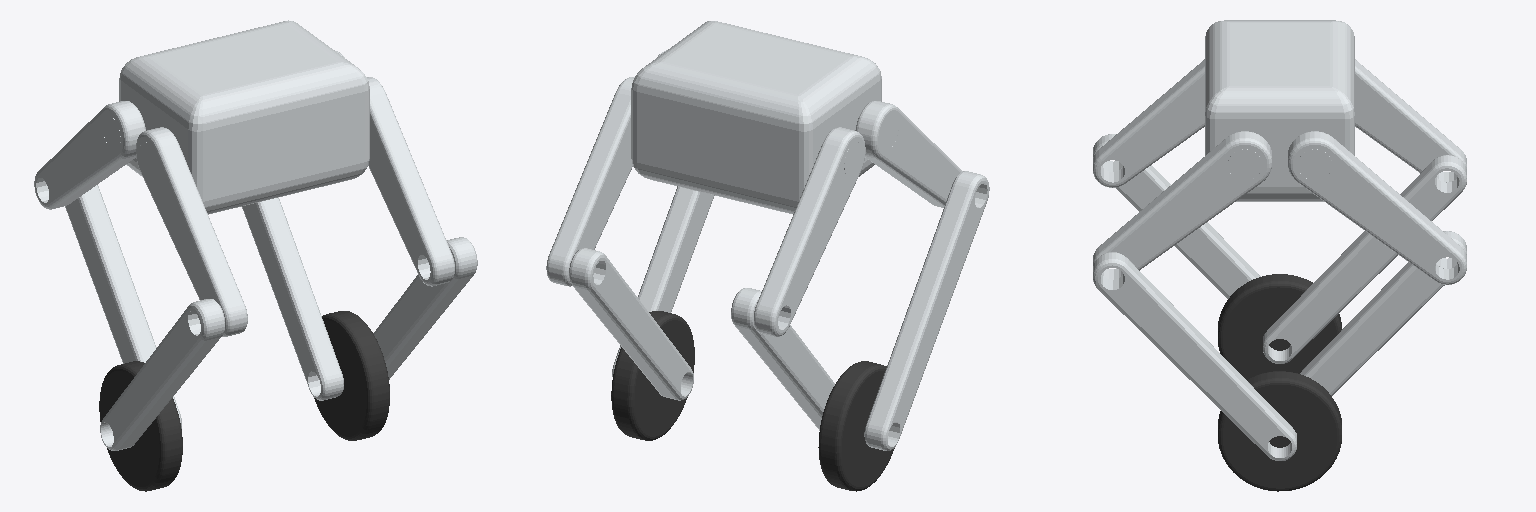
URDF robot description (WBR_prototype):
<?xml version="1.0" encoding="utf-8"?>
<!-- This URDF was automatically created by SolidWorks to URDF Exporter! Originally created by [author] ([email redacted]) 
     Commit Version: 1.6.0-4-g7f85cfe  Build Version: 1.6.7995.38578
     For more information, please see http://wiki.ros.org/sw_urdf_exporter -->
<robot
  name="WBR_prototype">
  <link
    name="base_link">
    <inertial>
      <origin
        xyz="-3.35742547264237E-17 -9.11466021782636E-18 1.577370176157E-17"
        rpy="0 0 0" />
      <mass
        value="79.435415621746" />
      <inertia
        ixx="0.936396686083776"
        ixy="2.52034653455517E-17"
        ixz="2.57762713761324E-17"
        iyy="1.67256373747467"
        iyz="6.38678724097504E-17"
        izz="1.48256968665553" />
    </inertial>
    <visual>
      <origin
        xyz="0 0 0"
        rpy="0 0 0" />
      <geometry>
        <mesh
          filename="package://WBR_prototype/meshes/base_link.STL" />
      </geometry>
      <material
        name="">
        <color
          rgba="0.898039215686275 0.917647058823529 0.929411764705882 1" />
      </material>
    </visual>
    <collision>
      <origin
        xyz="0 0 0"
        rpy="0 0 0" />
      <geometry>
        <mesh
          filename="package://WBR_prototype/meshes/base_link.STL" />
      </geometry>
    </collision>
  </link>
  <link
    name="A1_Link">
    <inertial>
      <origin
        xyz="0.0123937238930464 0.0249999999999999 -1.38777878078145E-17"
        rpy="0 0 0" />
      <mass
        value="4.58334450236852" />
      <inertia
        ixx="0.00461060976863761"
        ixy="-8.53506861085946E-18"
        ixz="5.52943107967607E-17"
        iyy="0.0604011849476407"
        iyz="2.35123470896141E-19"
        izz="0.0576287318981151" />
    </inertial>
    <visual>
      <origin
        xyz="0 0 0"
        rpy="0 0 0" />
      <geometry>
        <mesh
          filename="package://WBR_prototype/meshes/A1_Link.STL" />
      </geometry>
      <material
        name="">
        <color
          rgba="0.898039215686275 0.917647058823529 0.929411764705882 1" />
      </material>
    </visual>
    <collision>
      <origin
        xyz="0 0 0"
        rpy="0 0 0" />
      <geometry>
        <mesh
          filename="package://WBR_prototype/meshes/A1_Link.STL" />
      </geometry>
    </collision>
  </link>
  <joint
    name="A1"
    type="fixed">
    <origin
      xyz="0.255 0.18353 -0.098031"
      rpy="0 0.71225 1.5708" />
    <parent
      link="base_link" />
    <child
      link="A1_Link" />
    <axis
      xyz="0 0 0" />
  </joint>
  <link
    name="A15_Link">
    <inertial>
      <origin
        xyz="0.109893824662281 0.025 -1.11022302462516E-16"
        rpy="0 0 0" />
      <mass
        value="4.99934360485206" />
      <inertia
        ixx="0.00335674361919314"
        ixy="-1.8864423194188E-17"
        ixz="1.03324467037869E-16"
        iyy="0.112471776561935"
        iyz="-1.16854134262832E-18"
        izz="0.111109301926735" />
    </inertial>
    <visual>
      <origin
        xyz="0 0 0"
        rpy="0 0 0" />
      <geometry>
        <mesh
          filename="package://WBR_prototype/meshes/A15_Link.STL" />
      </geometry>
      <material
        name="">
        <color
          rgba="0.898039215686275 0.917647058823529 0.929411764705882 1" />
      </material>
    </visual>
    <collision>
      <origin
        xyz="0 0 0"
        rpy="0 0 0" />
      <geometry>
        <mesh
          filename="package://WBR_prototype/meshes/A15_Link.STL" />
      </geometry>
    </collision>
  </link>
  <joint
    name="A15"
    type="fixed">
    <origin
      xyz="0.1924 0.1 -0.34992"
      rpy="3.1416 -1.5491 0" />
    <parent
      link="A1_Link" />
    <child
      link="A15_Link" />
    <axis
      xyz="0 0 0" />
  </joint>
  <link
    name="WR_Link">
    <inertial>
      <origin
        xyz="0 -0.025 5.55111512312578E-17"
        rpy="0 0 0" />
      <mass
        value="3.01810315038832" />
      <inertia
        ixx="0.0122553300870839"
        ixy="1.68518870133883E-34"
        ixz="8.67361737988404E-19"
        iyy="0.0232789295920736"
        iyz="7.37180746360739E-20"
        izz="0.0122553300870839" />
    </inertial>
    <visual>
      <origin
        xyz="0 0 0"
        rpy="0 0 0" />
      <geometry>
        <mesh
          filename="package://WBR_prototype/meshes/WR_Link.STL" />
      </geometry>
      <material
        name="">
        <color
          rgba="0.298039215686275 0.298039215686275 0.298039215686275 1" />
      </material>
    </visual>
    <collision>
      <origin
        xyz="0 0 0"
        rpy="0 0 0" />
      <geometry>
        <mesh
          filename="package://WBR_prototype/meshes/WR_Link.STL" />
      </geometry>
    </collision>
  </link>
  <joint
    name="WR"
    type="continuous">
    <origin
      xyz="-0.15 0.05 0"
      rpy="3.1416 1.218 0" />
    <parent
      link="A15_Link" />
    <child
      link="WR_Link" />
    <axis
      xyz="0 1 0" />
  </joint>
  <link
    name="A2_Link">
    <inertial>
      <origin
        xyz="0.0123937238930463 0.025 4.16333634234434E-17"
        rpy="0 0 0" />
      <mass
        value="4.58334450236852" />
      <inertia
        ixx="0.00461060976863762"
        ixy="3.30199279258287E-18"
        ixz="-4.46691295064028E-17"
        iyy="0.0604011849476407"
        iyz="-6.0525621139655E-19"
        izz="0.0576287318981151" />
    </inertial>
    <visual>
      <origin
        xyz="0 0 0"
        rpy="0 0 0" />
      <geometry>
        <mesh
          filename="package://WBR_prototype/meshes/A2_Link.STL" />
      </geometry>
      <material
        name="">
        <color
          rgba="0.898039215686275 0.917647058823529 0.929411764705882 1" />
      </material>
    </visual>
    <collision>
      <origin
        xyz="0 0 0"
        rpy="0 0 0" />
      <geometry>
        <mesh
          filename="package://WBR_prototype/meshes/A2_Link.STL" />
      </geometry>
    </collision>
  </link>
  <joint
    name="A2"
    type="fixed">
    <origin
      xyz="0.255 -0.18353 -0.098031"
      rpy="3.1416 0.71225 -1.5708" />
    <parent
      link="base_link" />
    <child
      link="A2_Link" />
    <axis
      xyz="0 0 0" />
  </joint>
  <link
    name="A26_Link">
    <inertial>
      <origin
        xyz="0.109893824662281 0.025 -5.55111512312578E-17"
        rpy="0 0 0" />
      <mass
        value="4.99934360485206" />
      <inertia
        ixx="0.00335674361919313"
        ixy="1.04314921672282E-18"
        ixz="-5.68121938382404E-17"
        iyy="0.112471776561935"
        iyz="-2.89320633353585E-19"
        izz="0.111109301926735" />
    </inertial>
    <visual>
      <origin
        xyz="0 0 0"
        rpy="0 0 0" />
      <geometry>
        <mesh
          filename="package://WBR_prototype/meshes/A26_Link.STL" />
      </geometry>
      <material
        name="">
        <color
          rgba="0.898039215686275 0.917647058823529 0.929411764705882 1" />
      </material>
    </visual>
    <collision>
      <origin
        xyz="0 0 0"
        rpy="0 0 0" />
      <geometry>
        <mesh
          filename="package://WBR_prototype/meshes/A26_Link.STL" />
      </geometry>
    </collision>
  </link>
  <joint
    name="A26"
    type="fixed">
    <origin
      xyz="0.1924 0 0.34992"
      rpy="3.1416 1.5491 0" />
    <parent
      link="A2_Link" />
    <child
      link="A26_Link" />
    <axis
      xyz="0 0 0" />
  </joint>
  <link
    name="A3_Link">
    <inertial>
      <origin
        xyz="0.0123937238930464 0.025 0"
        rpy="0 0 0" />
      <mass
        value="4.58334450236852" />
      <inertia
        ixx="0.00461060976863762"
        ixy="-9.72010761066201E-18"
        ixz="6.33174068731535E-17"
        iyy="0.0604011849476408"
        iyz="-5.29351441547726E-19"
        izz="0.0576287318981152" />
    </inertial>
    <visual>
      <origin
        xyz="0 0 0"
        rpy="0 0 0" />
      <geometry>
        <mesh
          filename="package://WBR_prototype/meshes/A3_Link.STL" />
      </geometry>
      <material
        name="">
        <color
          rgba="0.898039215686275 0.917647058823529 0.929411764705882 1" />
      </material>
    </visual>
    <collision>
      <origin
        xyz="0 0 0"
        rpy="0 0 0" />
      <geometry>
        <mesh
          filename="package://WBR_prototype/meshes/A3_Link.STL" />
      </geometry>
    </collision>
  </link>
  <joint
    name="A3"
    type="fixed">
    <origin
      xyz="-0.205 0.183533542805022 -0.0980312942796335"
      rpy="0 0.71225466118791 1.5707963267949" />
    <parent
      link="base_link" />
    <child
      link="A3_Link" />
    <axis
      xyz="0 0 0" />
  </joint>
  <link
    name="A37_Link">
    <inertial>
      <origin
        xyz="0.109893824662281 0.025 -1.11022302462516E-16"
        rpy="0 0 0" />
      <mass
        value="4.99934360485206" />
      <inertia
        ixx="0.00335674361919312"
        ixy="-4.94383568410852E-19"
        ixz="1.2414114874959E-16"
        iyy="0.112471776561935"
        iyz="7.6527546025921E-19"
        izz="0.111109301926735" />
    </inertial>
    <visual>
      <origin
        xyz="0 0 0"
        rpy="0 0 0" />
      <geometry>
        <mesh
          filename="package://WBR_prototype/meshes/A37_Link.STL" />
      </geometry>
      <material
        name="">
        <color
          rgba="0.898039215686275 0.917647058823529 0.929411764705882 1" />
      </material>
    </visual>
    <collision>
      <origin
        xyz="0 0 0"
        rpy="0 0 0" />
      <geometry>
        <mesh
          filename="package://WBR_prototype/meshes/A37_Link.STL" />
      </geometry>
    </collision>
  </link>
  <joint
    name="A37"
    type="fixed">
    <origin
      xyz="0.1924 0 -0.34992"
      rpy="3.1416 -1.5491 0" />
    <parent
      link="A3_Link" />
    <child
      link="A37_Link" />
    <axis
      xyz="0 0 0" />
  </joint>
  <link
    name="WL_Link">
    <inertial>
      <origin
        xyz="7.28583859910259E-17 0.0249999999999999 -1.11022302462516E-16"
        rpy="0 0 0" />
      <mass
        value="3.01810315038832" />
      <inertia
        ixx="0.0122553300870839"
        ixy="-1.89690408902048E-18"
        ixz="-5.42101086242752E-20"
        iyy="0.0232789295920736"
        iyz="-2.80259652532196E-18"
        izz="0.0122553300870839" />
    </inertial>
    <visual>
      <origin
        xyz="0 0 0"
        rpy="0 0 0" />
      <geometry>
        <mesh
          filename="package://WBR_prototype/meshes/WL_Link.STL" />
      </geometry>
      <material
        name="">
        <color
          rgba="0.298039215686275 0.298039215686275 0.298039215686275 1" />
      </material>
    </visual>
    <collision>
      <origin
        xyz="0 0 0"
        rpy="0 0 0" />
      <geometry>
        <mesh
          filename="package://WBR_prototype/meshes/WL_Link.STL" />
      </geometry>
    </collision>
  </link>
  <joint
    name="WL"
    type="continuous">
    <origin
      xyz="-0.15 0 0"
      rpy="3.1416 -0.80139 0" />
    <parent
      link="A37_Link" />
    <child
      link="WL_Link" />
    <axis
      xyz="0 1 0" />
  </joint>
  <link
    name="A4_Link">
    <inertial>
      <origin
        xyz="0.0123937238930464 0.025 1.38777878078145E-17"
        rpy="0 0 0" />
      <mass
        value="4.58334450236852" />
      <inertia
        ixx="0.00461060976863761"
        ixy="1.20288880669621E-17"
        ixz="-6.26668855696622E-17"
        iyy="0.0604011849476408"
        iyz="6.79934269402883E-19"
        izz="0.0576287318981152" />
    </inertial>
    <visual>
      <origin
        xyz="0 0 0"
        rpy="0 0 0" />
      <geometry>
        <mesh
          filename="package://WBR_prototype/meshes/A4_Link.STL" />
      </geometry>
      <material
        name="">
        <color
          rgba="0.898039215686275 0.917647058823529 0.929411764705882 1" />
      </material>
    </visual>
    <collision>
      <origin
        xyz="0 0 0"
        rpy="0 0 0" />
      <geometry>
        <mesh
          filename="package://WBR_prototype/meshes/A4_Link.STL" />
      </geometry>
    </collision>
  </link>
  <joint
    name="A4"
    type="fixed">
    <origin
      xyz="-0.205 -0.18353 -0.098031"
      rpy="3.1416 0.71225 -1.5708" />
    <parent
      link="base_link" />
    <child
      link="A4_Link" />
    <axis
      xyz="0 0 0" />
  </joint>
  <link
    name="A48_Link">
    <inertial>
      <origin
        xyz="0.109893824662281 0.025 0"
        rpy="0 0 0" />
      <mass
        value="4.99934360485206" />
      <inertia
        ixx="0.00335674361919313"
        ixy="2.82486655469367E-17"
        ixz="-6.52689707836274E-17"
        iyy="0.112471776561935"
        iyz="-4.01023479076307E-19"
        izz="0.111109301926735" />
    </inertial>
    <visual>
      <origin
        xyz="0 0 0"
        rpy="0 0 0" />
      <geometry>
        <mesh
          filename="package://WBR_prototype/meshes/A48_Link.STL" />
      </geometry>
      <material
        name="">
        <color
          rgba="0.898039215686275 0.917647058823529 0.929411764705882 1" />
      </material>
    </visual>
    <collision>
      <origin
        xyz="0 0 0"
        rpy="0 0 0" />
      <geometry>
        <mesh
          filename="package://WBR_prototype/meshes/A48_Link.STL" />
      </geometry>
    </collision>
  </link>
  <joint
    name="A48"
    type="fixed">
    <origin
      xyz="0.1924 0.1 0.34992"
      rpy="3.1416 1.5491 0" />
    <parent
      link="A4_Link" />
    <child
      link="A48_Link" />
    <axis
      xyz="0 0 0" />
  </joint>
</robot>

--- Facts derived from the render (not from the file) ---
Views: 3 orthographic renders of the robot side by side, from view 1: azimuth 30°, elevation 25°; view 2: azimuth 150°, elevation 25°; view 3: azimuth 270°, elevation 25°.
Robot: WBR_prototype — 11 links, 10 joints (2 continuous, 8 fixed); root link base_link; default pose: all joints at 0.
Links seen in each view (by area): view 1: base_link, A4_Link, A15_Link, A2_Link, A48_Link, A37_Link, WR_Link, A3_Link, WL_Link, A26_Link; view 2: base_link, A48_Link, A3_Link, A15_Link, A1_Link, WL_Link, A4_Link, WR_Link, A37_Link, A26_Link; view 3: base_link, A26_Link, A1_Link, WR_Link, A2_Link, A37_Link, WL_Link, A15_Link, A4_Link, A3_Link, A48_Link.
Boxes of the visible links, left/top/right/bottom form: base_link: left=103, top=20, right=369, bottom=214; A4_Link: left=136, top=127, right=247, bottom=336; A15_Link: left=242, top=197, right=343, bottom=400; A2_Link: left=367, top=77, right=454, bottom=286; A48_Link: left=100, top=299, right=224, bottom=450; A37_Link: left=65, top=185, right=181, bottom=428; WR_Link: left=314, top=311, right=389, bottom=440; A3_Link: left=34, top=101, right=145, bottom=209; WL_Link: left=99, top=361, right=182, bottom=491; A26_Link: left=373, top=237, right=477, bottom=379; base_link: left=631, top=21, right=898, bottom=213; A48_Link: left=864, top=171, right=989, bottom=450; A3_Link: left=754, top=127, right=865, bottom=336; A15_Link: left=569, top=248, right=693, bottom=400; A1_Link: left=546, top=77, right=634, bottom=286; WL_Link: left=818, top=361, right=894, bottom=491; A4_Link: left=855, top=101, right=962, bottom=207; WR_Link: left=611, top=311, right=694, bottom=440; A37_Link: left=731, top=288, right=834, bottom=430; A26_Link: left=612, top=186, right=714, bottom=376; base_link: left=1205, top=20, right=1354, bottom=201; A26_Link: left=1093, top=252, right=1296, bottom=460; A1_Link: left=1288, top=131, right=1466, bottom=284; WR_Link: left=1218, top=371, right=1341, bottom=491; A2_Link: left=1093, top=131, right=1271, bottom=279; A37_Link: left=1263, top=155, right=1466, bottom=363; WL_Link: left=1218, top=274, right=1341, bottom=379; A15_Link: left=1300, top=231, right=1466, bottom=395; A4_Link: left=1093, top=59, right=1204, bottom=187; A3_Link: left=1355, top=59, right=1466, bottom=182; A48_Link: left=1093, top=134, right=1260, bottom=298.
Size in the robot's own frame: 0.61 by 0.7497 by 0.8499 metres.
11 mesh visuals loaded from 11 distinct referenced files (11 binary STL).